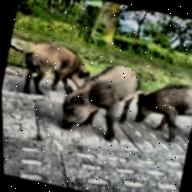boar: (46, 47, 156, 154), (124, 67, 192, 158), (13, 27, 99, 94)
